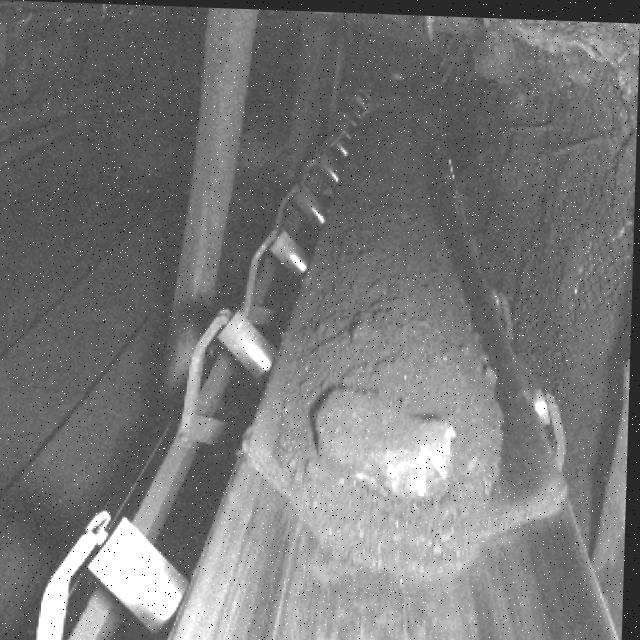large_sized_coal: (312, 381, 458, 505)
